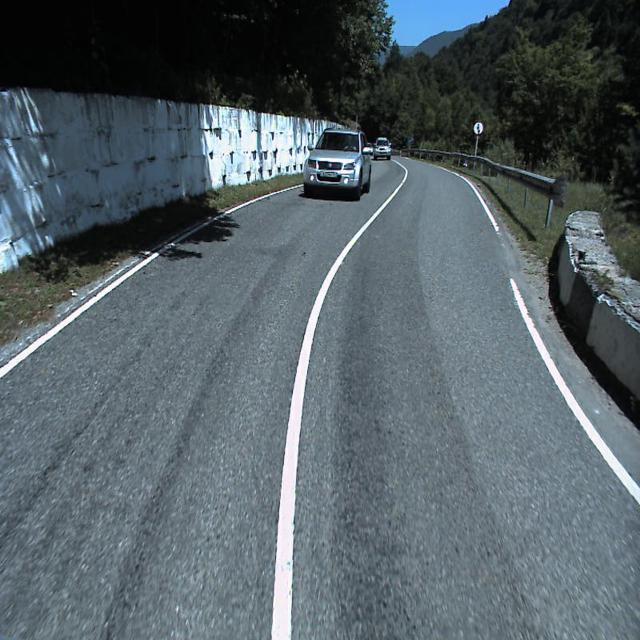road: (0, 154, 640, 639)
